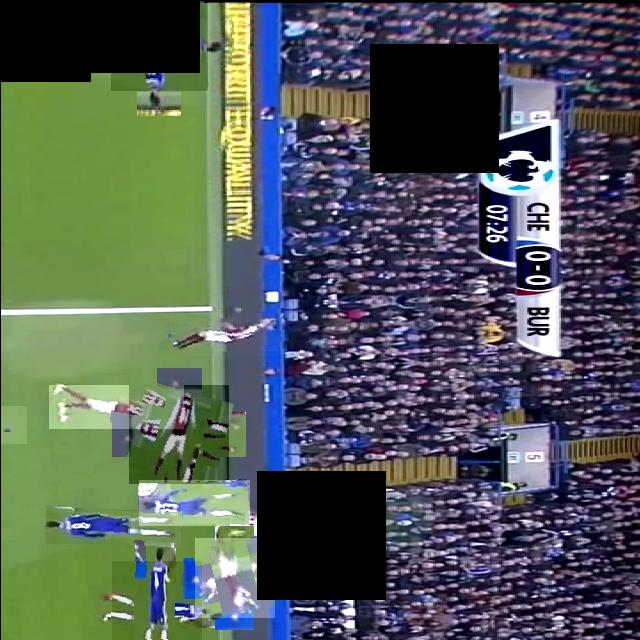ball: (309, 517, 345, 553)
soccer-player: (128, 385, 228, 484), (110, 0, 207, 91), (111, 561, 201, 640), (194, 538, 274, 618), (48, 385, 183, 429), (45, 508, 182, 546), (138, 480, 249, 526), (169, 313, 287, 356), (0, 406, 26, 444)
